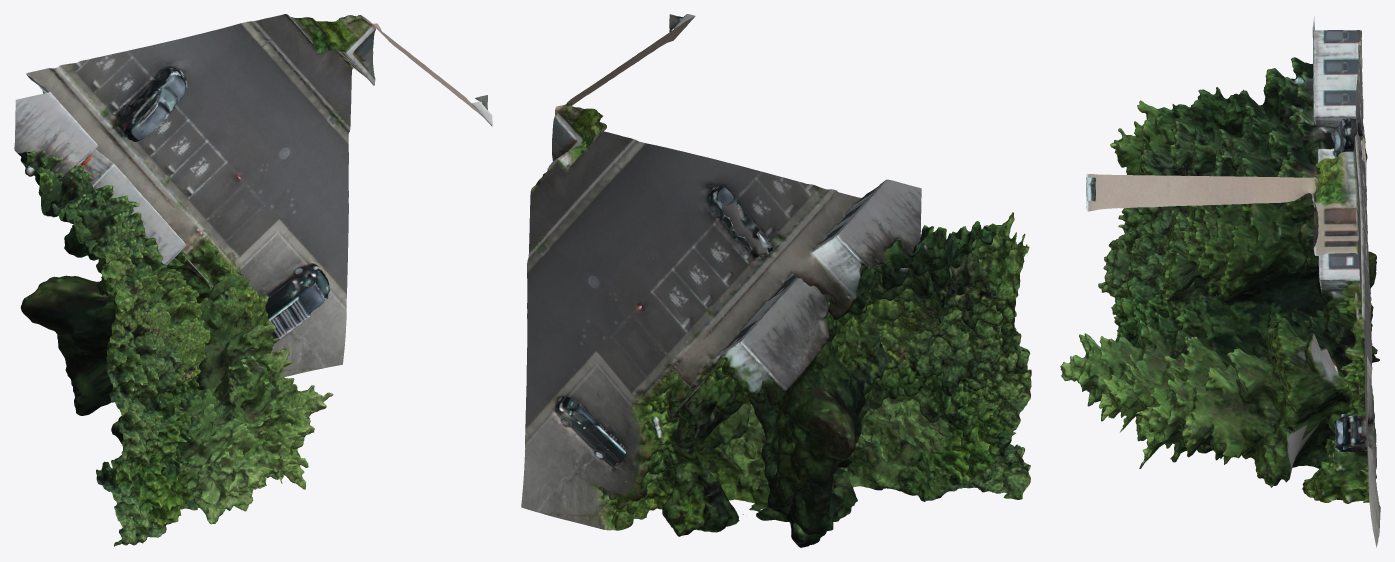
Rendered from Tile_+004_+010.fbx.
3 renders of one model, left to right at view 1: azimuth 30°, elevation 25°; view 2: azimuth 150°, elevation 25°; view 3: azimuth 270°, elevation 25°, orthographic. The views are drawn at different scales.
Visible parts, largest first — view 1: DefaultName; view 2: DefaultName; view 3: DefaultName.
Part boxes in pixels (x1,y1,x2,y2): DefaultName: (14, 14, 492, 546); DefaultName: (521, 14, 1031, 547); DefaultName: (1060, 16, 1380, 547).
Bounding box in the file's own units: 22.54 × 22.54 × 17.98.
